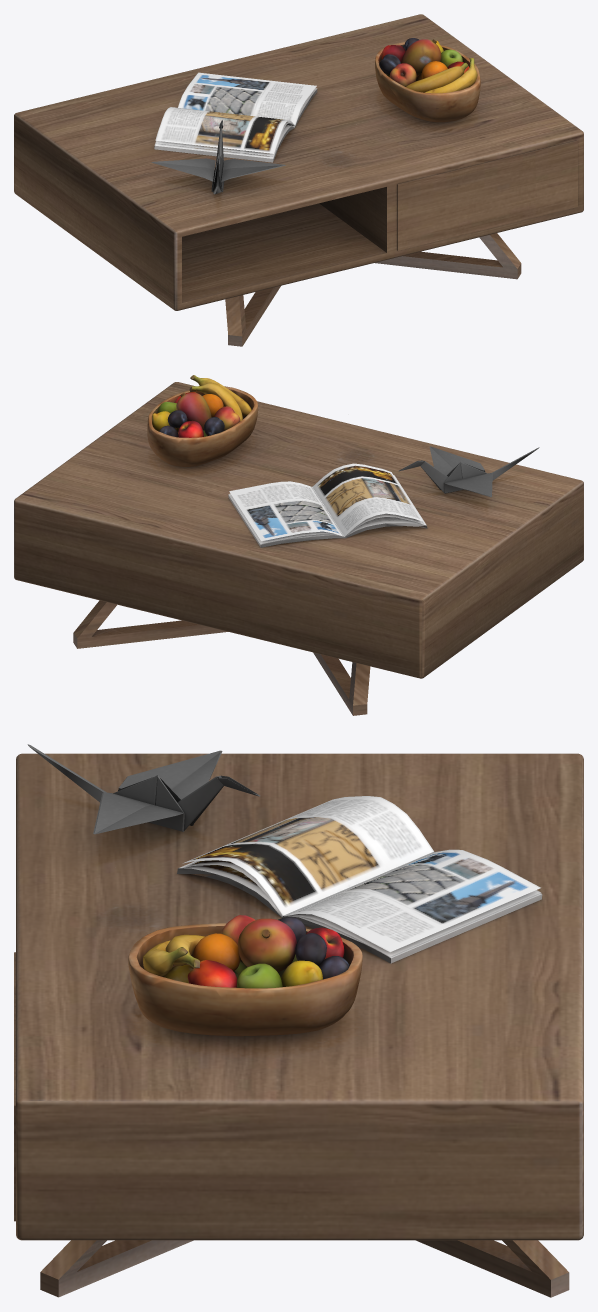
Rendered from raw_model.obj.
3 views of the same model, one above another, from view 1: azimuth 30°, elevation 25°; view 2: azimuth 150°, elevation 25°; view 3: azimuth 270°, elevation 25° (orthographic). The views are drawn at different scales.
Visible parts, largest first — view 1: solid_002, solid_003, solid_001, solid_011, solid_007, solid_009, solid_005, solid_008; view 2: solid_002, solid_003, solid_001, solid_011, solid_007, solid_012, solid_009; view 3: solid_002, solid_003, solid_001, solid_011, solid_007, solid_006, solid_012, solid_013, solid_014, solid_010, solid_005, solid_009.
Part boxes in pixels (<box>): solid_002: <box>14,14,583,346</box>; solid_003: <box>154,72,317,162</box>; solid_001: <box>375,42,480,122</box>; solid_011: <box>151,120,285,194</box>; solid_007: <box>401,39,441,75</box>; solid_009: <box>406,62,468,92</box>; solid_005: <box>425,57,477,93</box>; solid_008: <box>389,63,416,86</box>; solid_002: <box>14,382,583,715</box>; solid_003: <box>228,463,427,547</box>; solid_001: <box>147,386,258,466</box>; solid_011: <box>398,446,539,497</box>; solid_007: <box>176,392,211,430</box>; solid_012: <box>159,410,224,437</box>; solid_009: <box>189,382,242,421</box>; solid_002: <box>14,753,583,1297</box>; solid_003: <box>177,796,542,963</box>; solid_001: <box>128,923,362,1036</box>; solid_011: <box>27,744,260,834</box>; solid_007: <box>238,918,296,971</box>; solid_006: <box>187,927,344,987</box>; solid_012: <box>278,917,349,979</box>; solid_013: <box>193,933,240,971</box>; solid_014: <box>162,960,322,986</box>; solid_010: <box>234,954,297,988</box>; solid_005: <box>143,940,187,976</box>; solid_009: <box>165,934,204,968</box>.
Bounding box in the file's own units: 1.23 × 0.5656 × 0.8461.
1 material, 1 textured.
